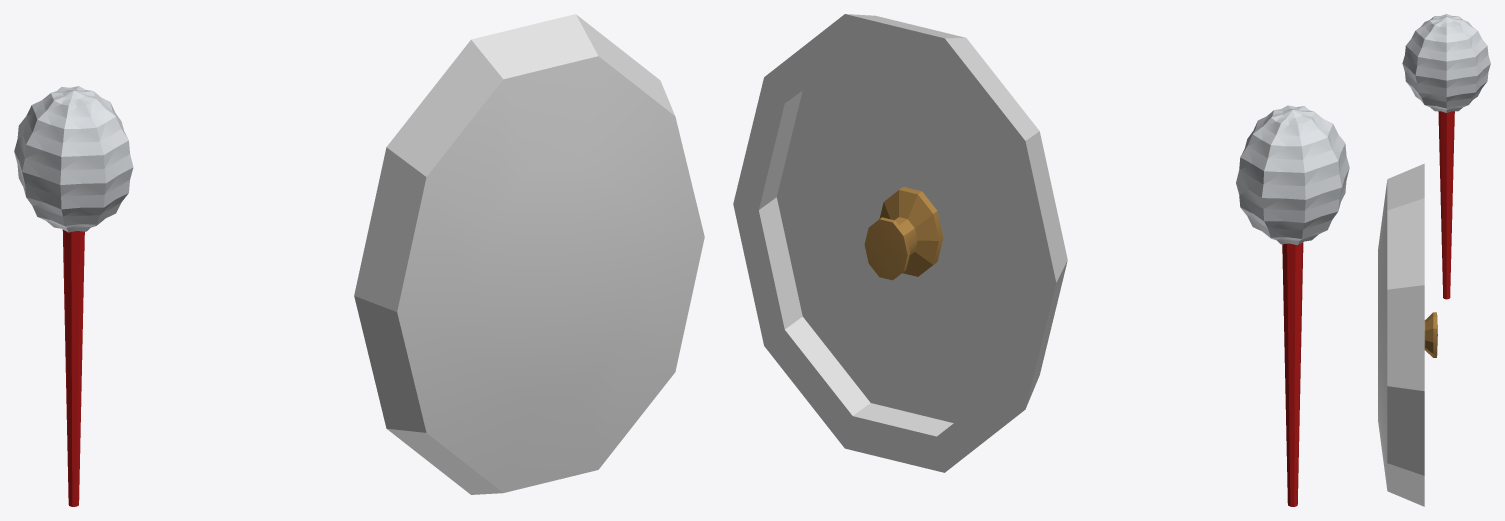
File: accessories_brushandcover.fbx
The picture shows the model from 3 angles, left to right: view 1: azimuth 30°, elevation 25°; view 2: azimuth 150°, elevation 25°; view 3: azimuth 270°, elevation 25°; orthographic projection. The views are drawn at different scales.
Parts seen in each view (by area): view 1: Toilet_Cover, ToiletBrush; view 2: Toilet_Cover, ToiletBrush; view 3: Toilet_Cover, ToiletBrush.
Boxes of the visible parts, bbox=[...] form: Toilet_Cover: bbox=[354, 14, 704, 494]; ToiletBrush: bbox=[14, 86, 133, 506]; Toilet_Cover: bbox=[733, 14, 1067, 472]; ToiletBrush: bbox=[1236, 105, 1349, 506]; Toilet_Cover: bbox=[1378, 163, 1437, 506]; ToiletBrush: bbox=[1402, 14, 1490, 299].
Bounding box in the file's own units: 1.99 × 1.41 × 0.4374.
Materials: 1 (1 with a texture image).
